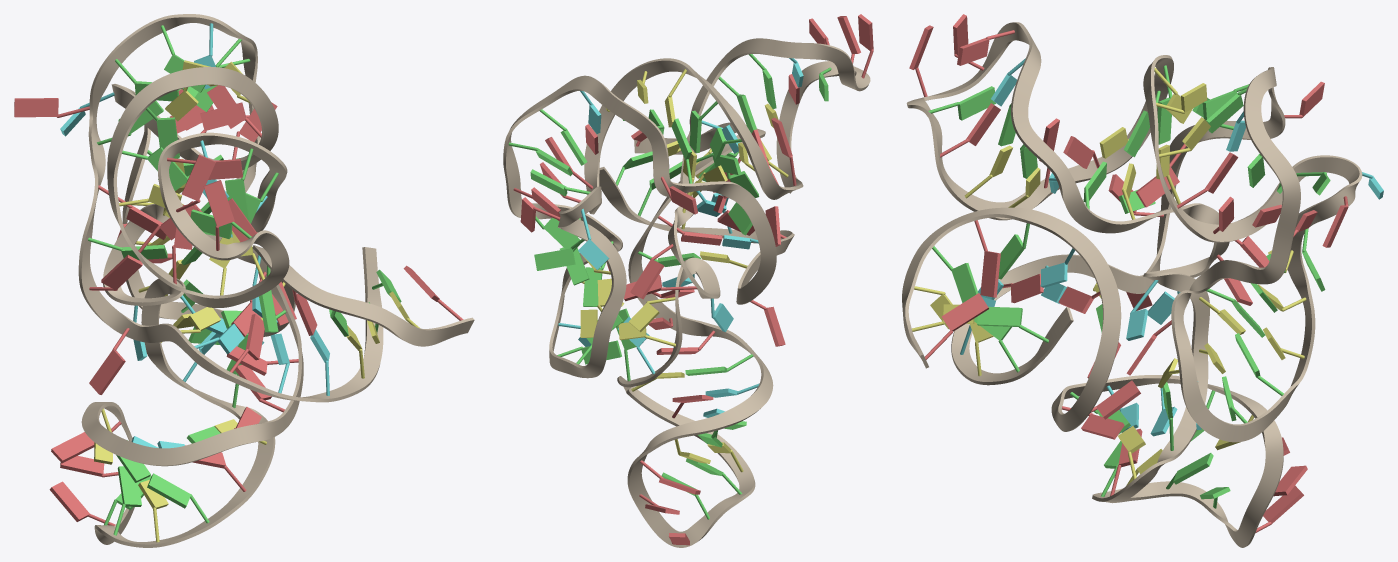
The model's file is 2GIS_1.glb.
The picture shows the model from 3 angles, left to right: view 1: azimuth 30°, elevation 25°; view 2: azimuth 150°, elevation 25°; view 3: azimuth 270°, elevation 25°; orthographic projection. The views are drawn at different scales.
Visible parts, largest first — view 1: ribbons, nucleotides; view 2: ribbons, nucleotides; view 3: ribbons, nucleotides.
Part boxes in pixels (x1,y1,x2,y2): ribbons: (78, 14, 474, 547); nucleotides: (14, 23, 463, 542); ribbons: (503, 38, 870, 547); nucleotides: (508, 14, 873, 545); ribbons: (902, 22, 1362, 547); nucleotides: (909, 14, 1383, 532).
Bounding box in the file's own units: 36.64 × 63.3 × 54.03.
